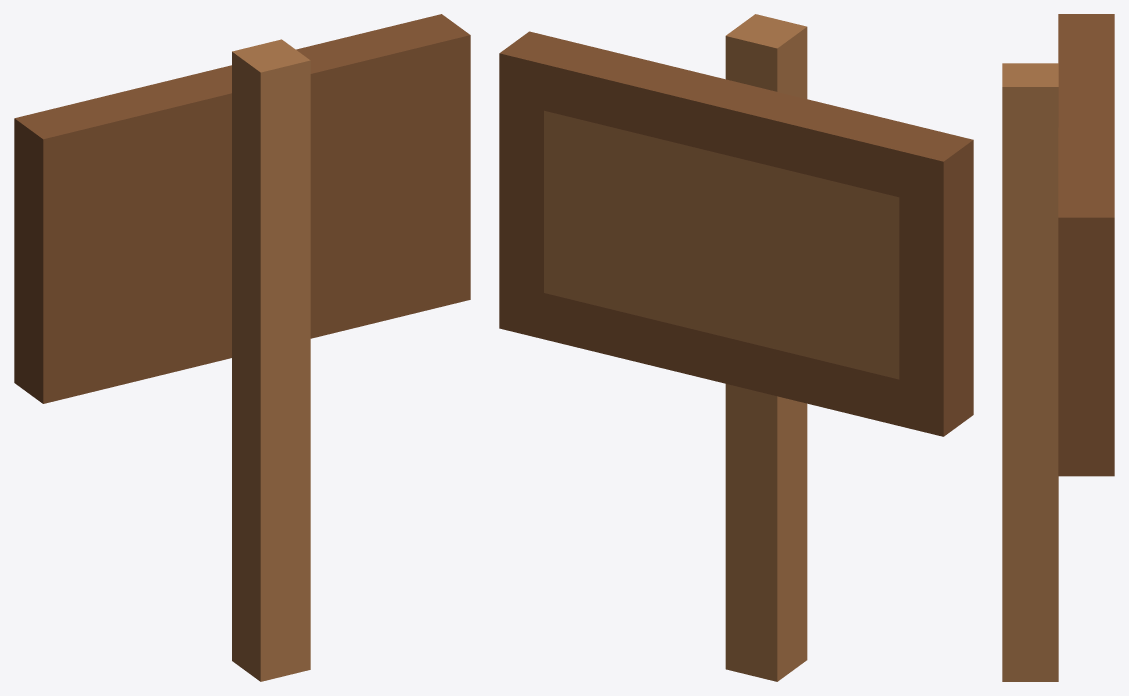
The model's file is w-vagvisare-cc0.glb.
The picture shows the model from 3 angles, left to right: view 1: azimuth 30°, elevation 25°; view 2: azimuth 150°, elevation 25°; view 3: azimuth 270°, elevation 25°; orthographic projection. The views are drawn at different scales.
Visible parts, largest first — view 1: sign; view 2: sign; view 3: sign.
Part boxes in pixels (box(x1,y1,x2,y2)): sign: box(14, 14, 470, 681); sign: box(499, 14, 973, 681); sign: box(1002, 14, 1114, 681).
Bounding box in the file's own units: 1.03 × 1.4 × 0.2397.
